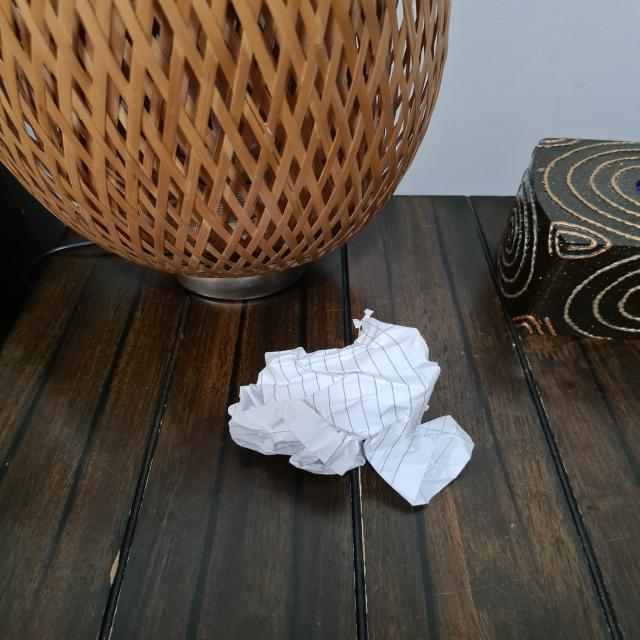Paper: (229, 317, 475, 504)
